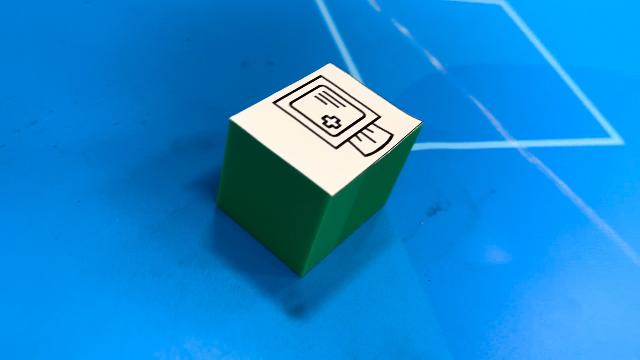napkin: (232, 62, 423, 266)
